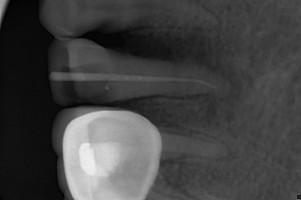Dental Caries: (107, 28, 243, 104)
Furcation Involvement: (218, 144, 233, 162)
